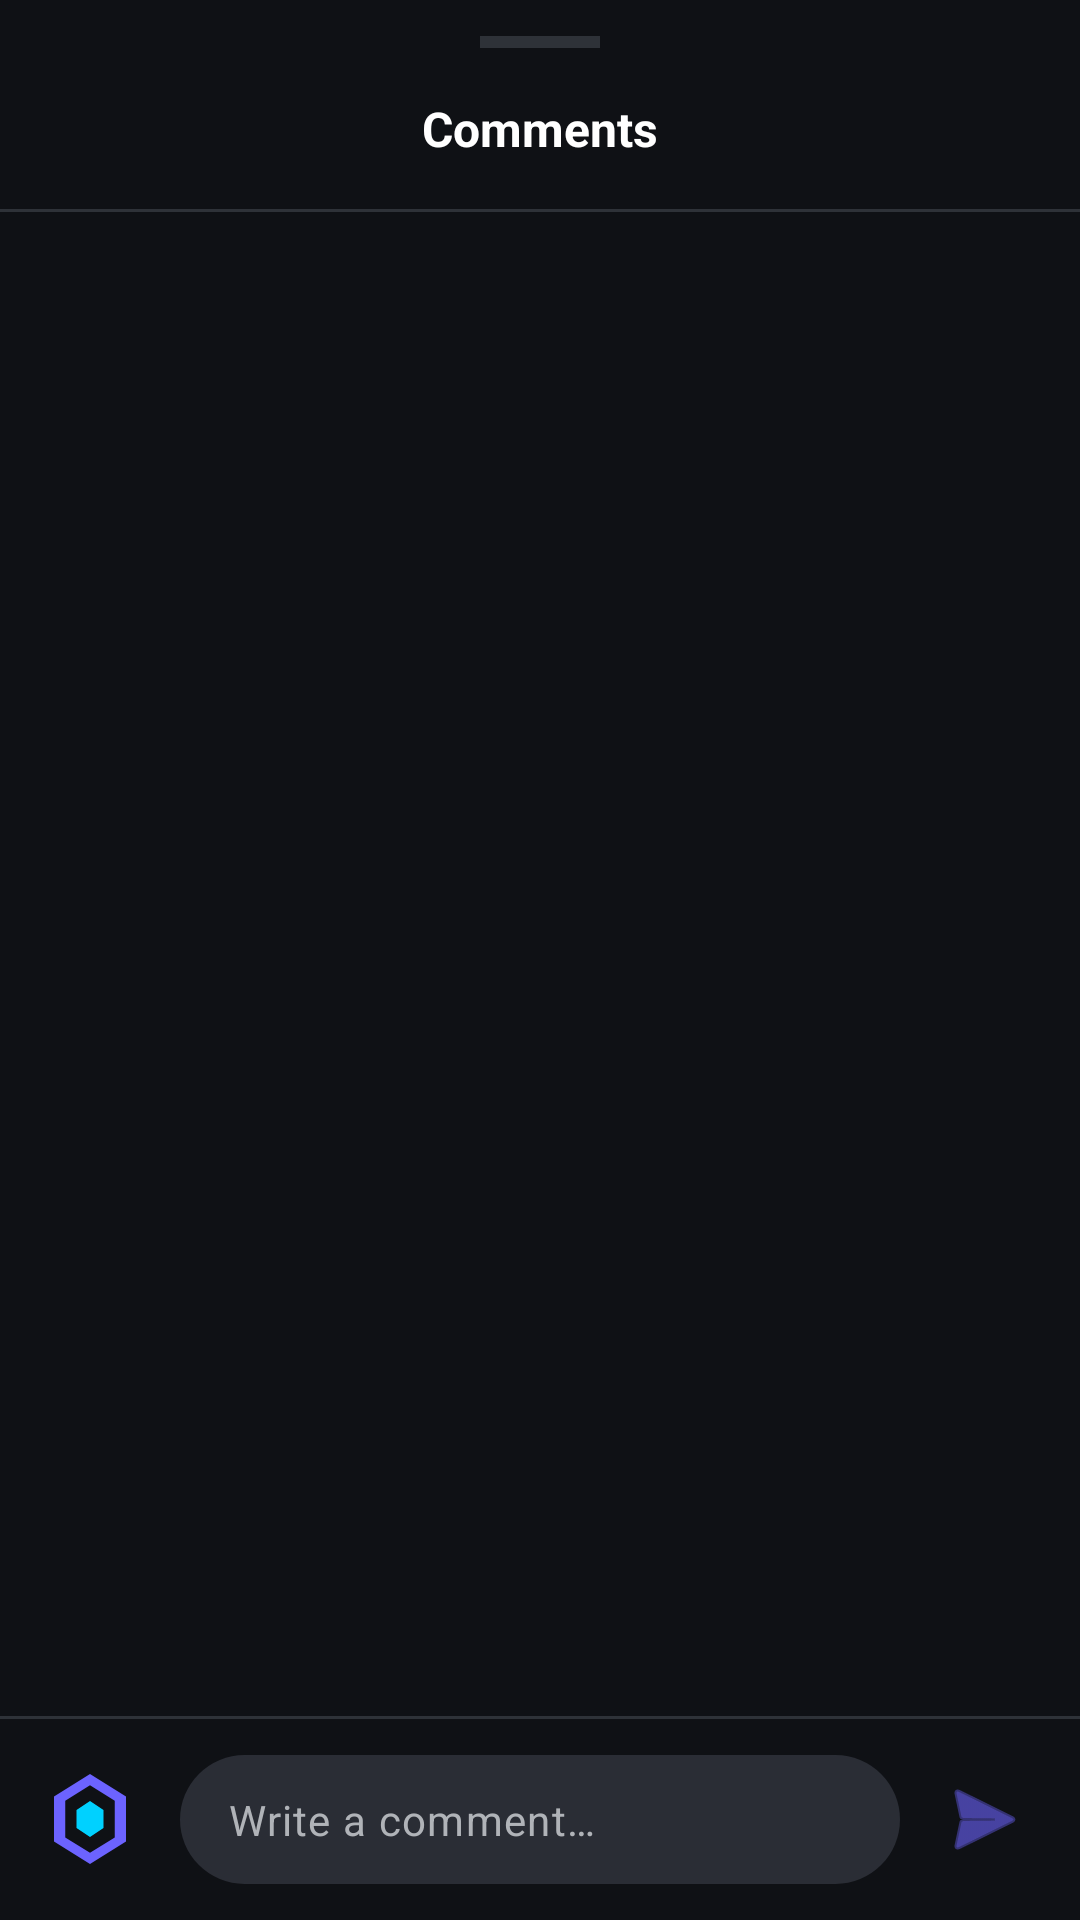

Screen size 1080*1920. Icon name, then its box in pixels as (x1, y1, x2, y2):
Post: (954, 1789, 1016, 1850)
